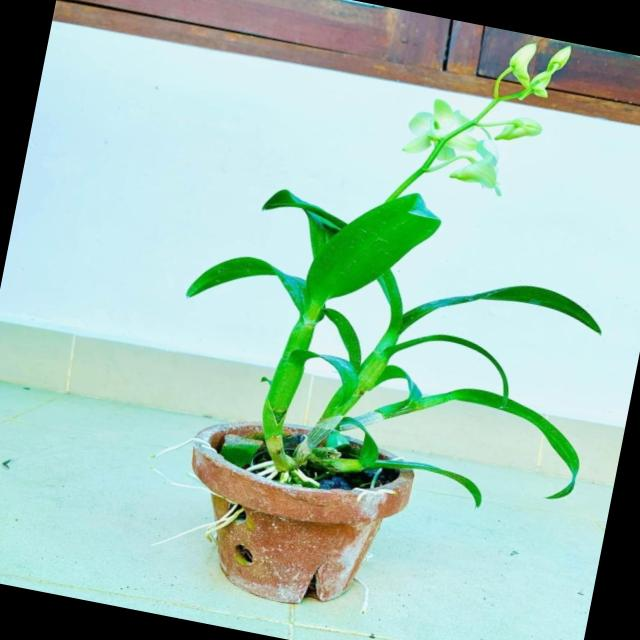flower: (403, 99, 469, 154), (450, 150, 500, 196), (438, 132, 477, 165)
leaf: (389, 390, 580, 481), (308, 192, 437, 300), (389, 333, 511, 394), (375, 457, 482, 506), (263, 339, 312, 437), (186, 255, 296, 298), (323, 305, 363, 367), (347, 419, 380, 467)
plant: (70, 38, 640, 640), (73, 0, 620, 113)
pot: (139, 402, 423, 632)
stem: (294, 345, 390, 465), (263, 288, 326, 440), (266, 434, 297, 472)
